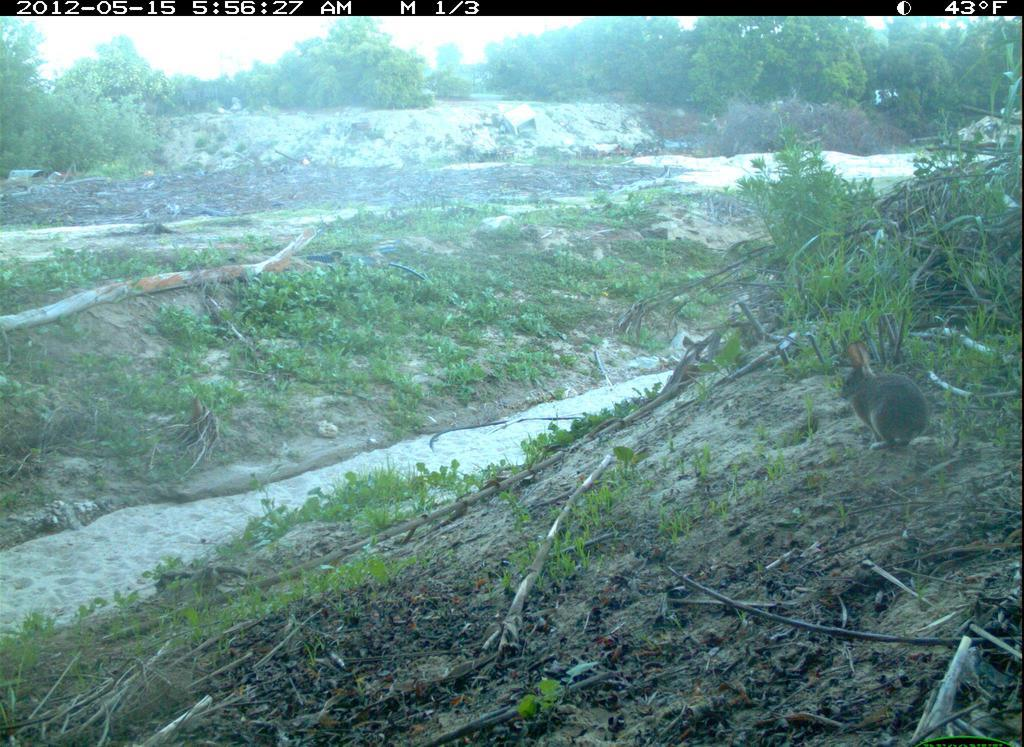rabbit: (829, 331, 943, 463)
